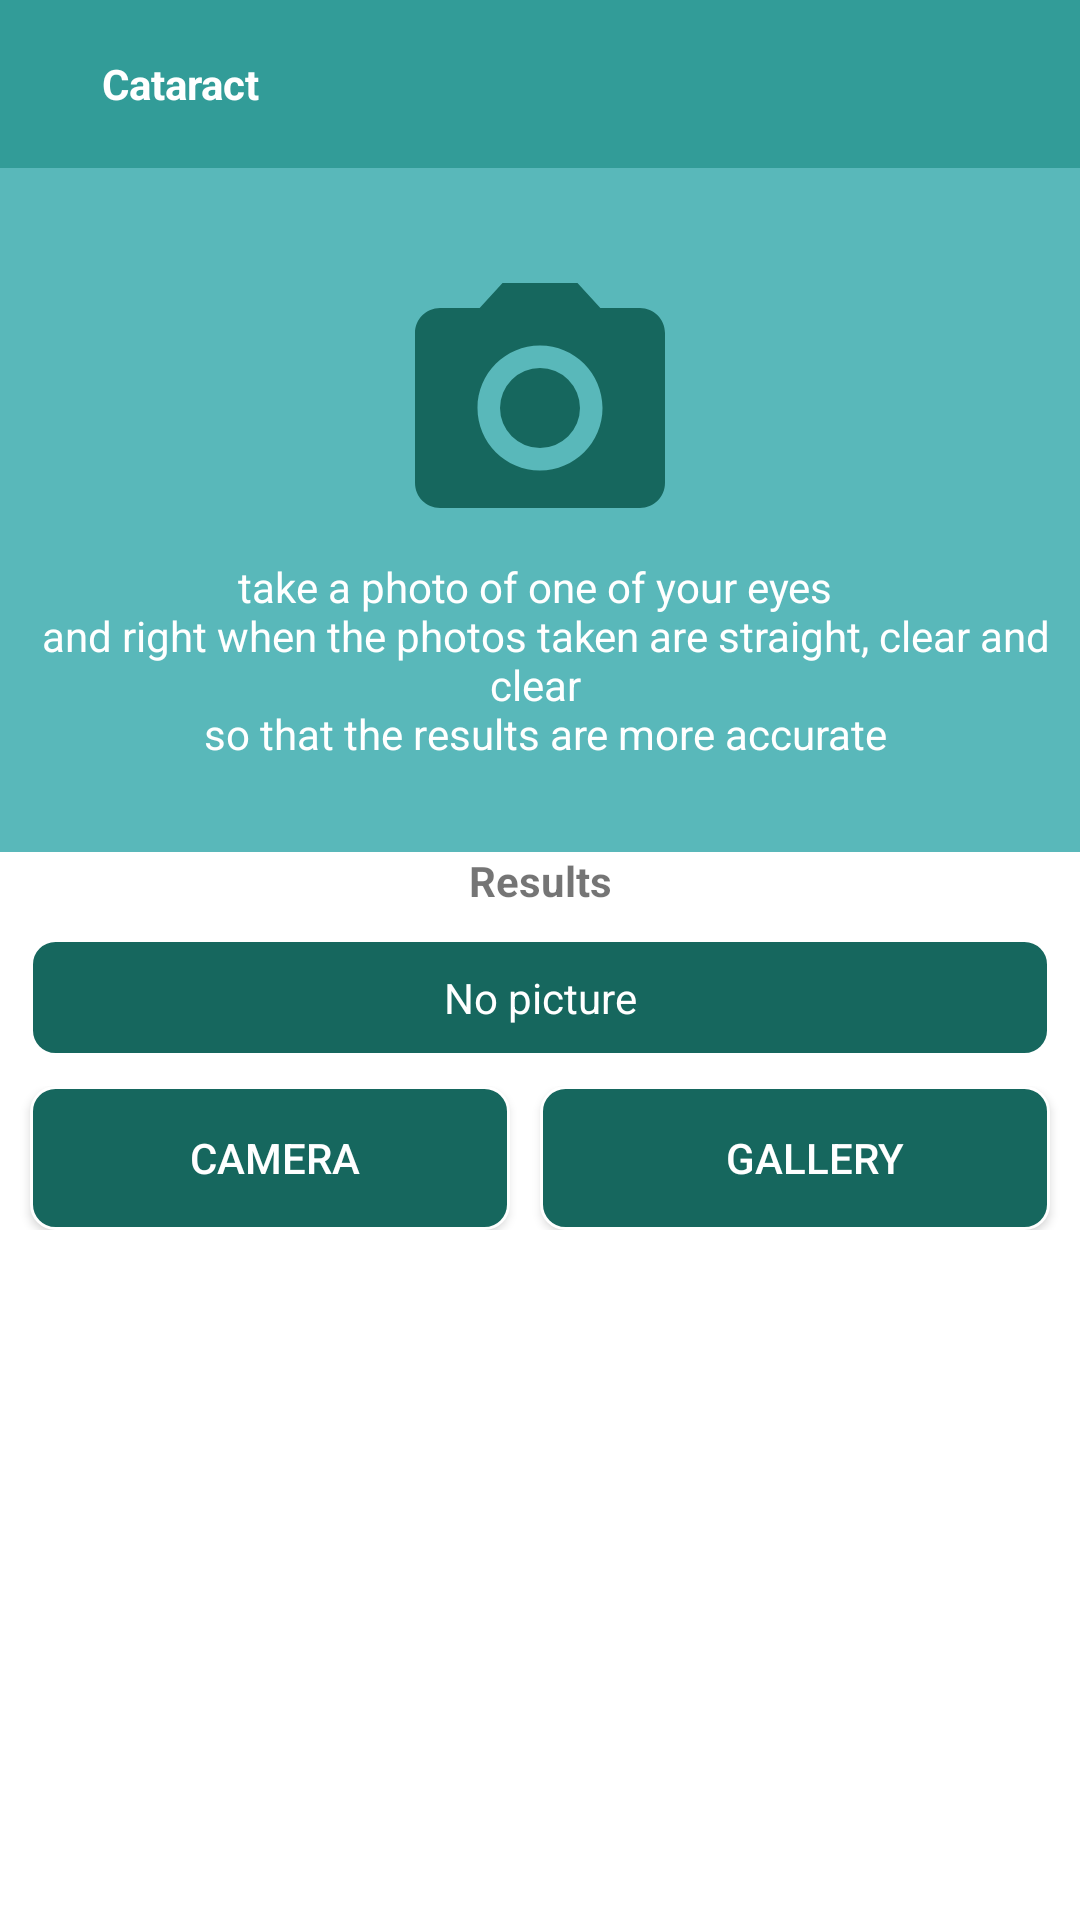

Where icons sit on this 1080 × 1920 app screen, as box(x1, y1, x2, y2):
camera: box(415, 283, 665, 508)
